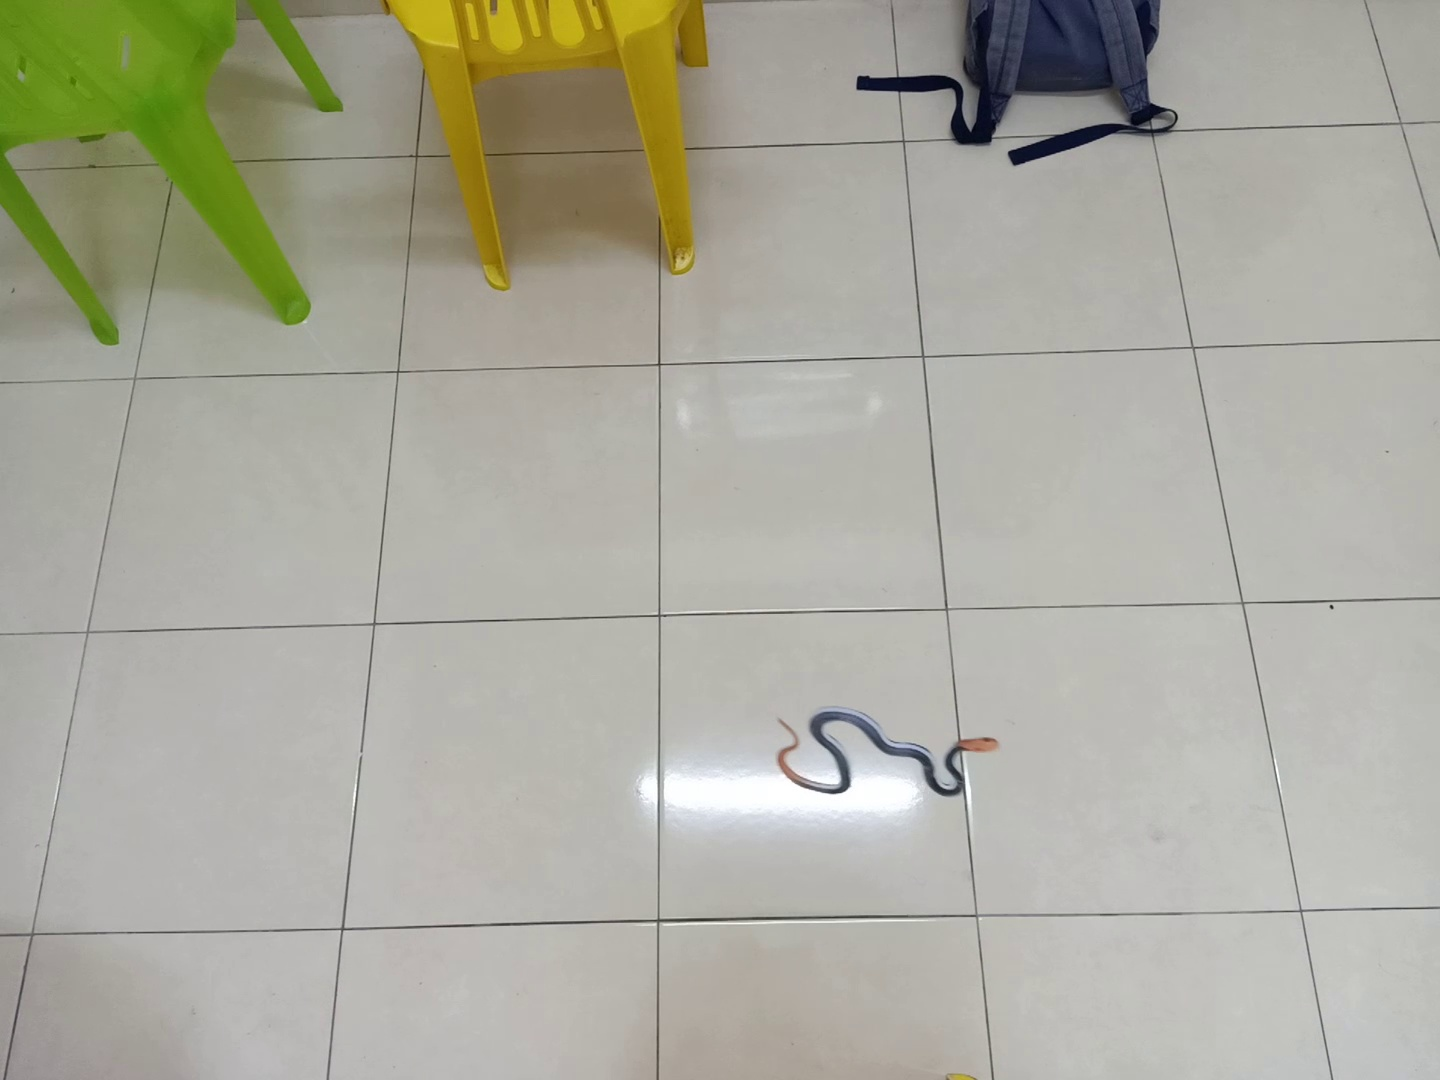snake: (771, 701, 1008, 800)
